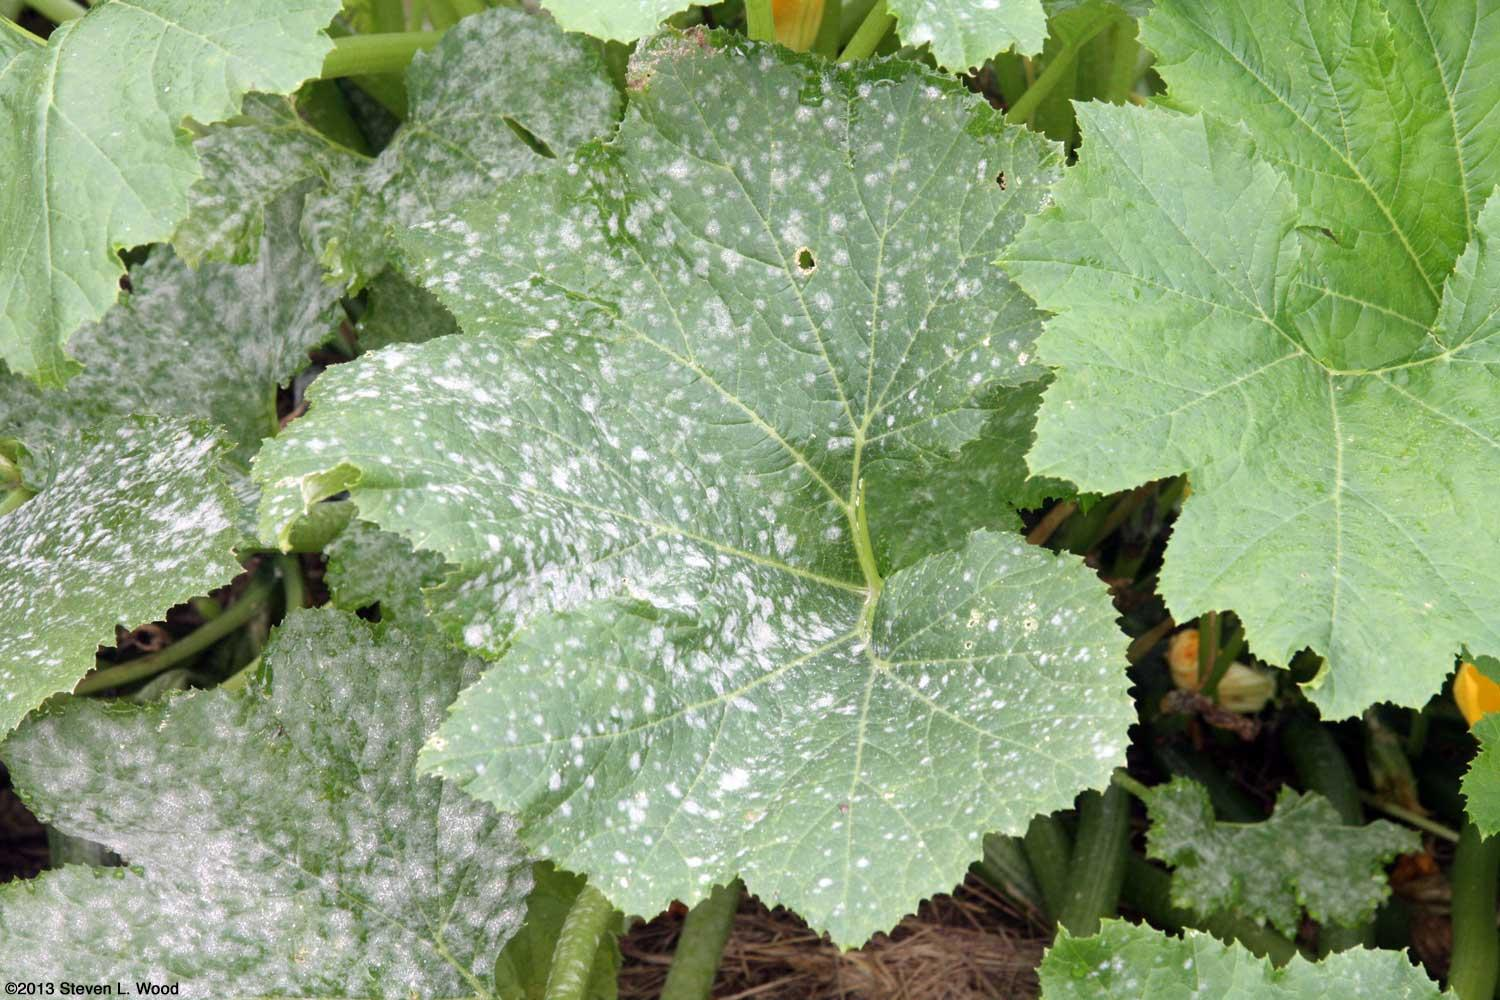Squash Powdery mildew leaf: (304, 1, 1169, 919), (67, 22, 600, 422), (9, 616, 537, 996), (1, 400, 309, 734)
